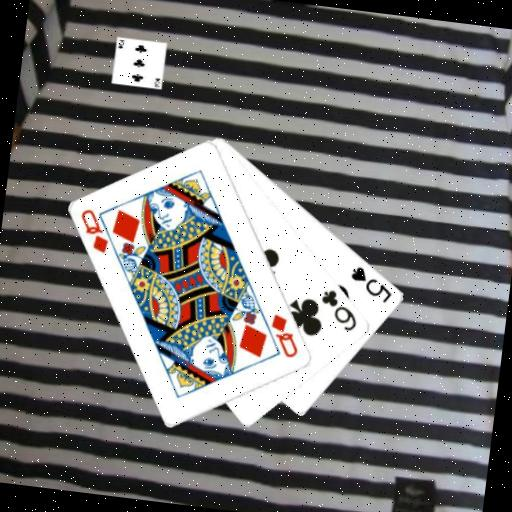5S: (345, 262, 397, 305)
6C: (316, 286, 363, 334)
QD: (265, 310, 305, 361), (74, 205, 114, 256)
